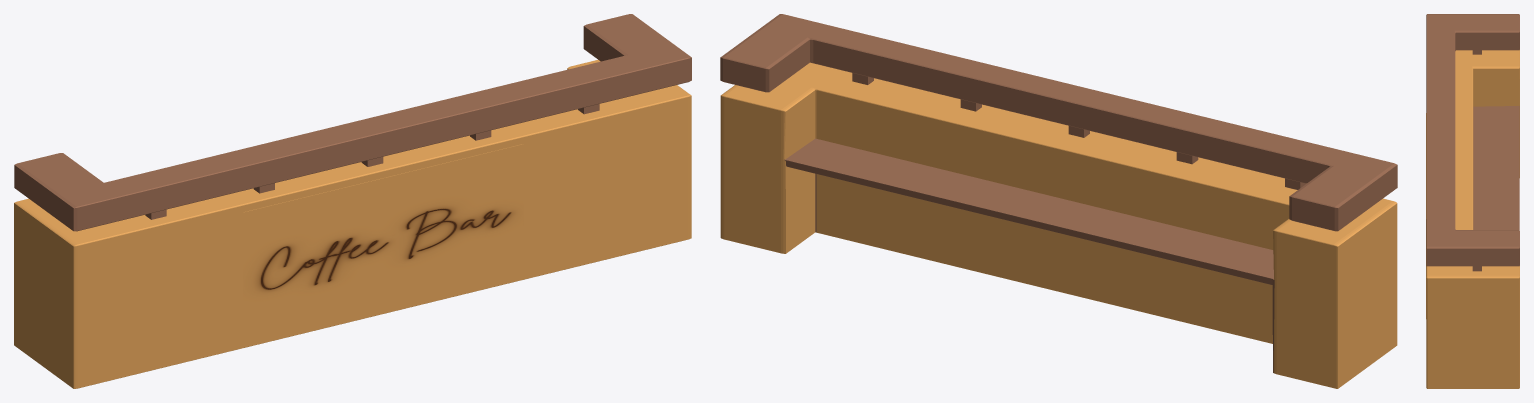
The model's file is classic_bar2.fbx.
The picture shows the model from 3 angles, left to right: view 1: azimuth 30°, elevation 25°; view 2: azimuth 150°, elevation 25°; view 3: azimuth 270°, elevation 25°; orthographic projection. The views are drawn at different scales.
Parts seen in each view (by area): view 1: ClassicBar; view 2: ClassicBar; view 3: ClassicBar.
Part boxes in pixels (x1=…): ClassicBar: x1=14, y1=14, x2=691, y2=388; ClassicBar: x1=720, y1=14, x2=1397, y2=388; ClassicBar: x1=1426, y1=14, x2=1519, y2=388.
Bounding box in the file's own units: 4500 × 1264 × 762.
Materials: 3 (1 with a texture image).
